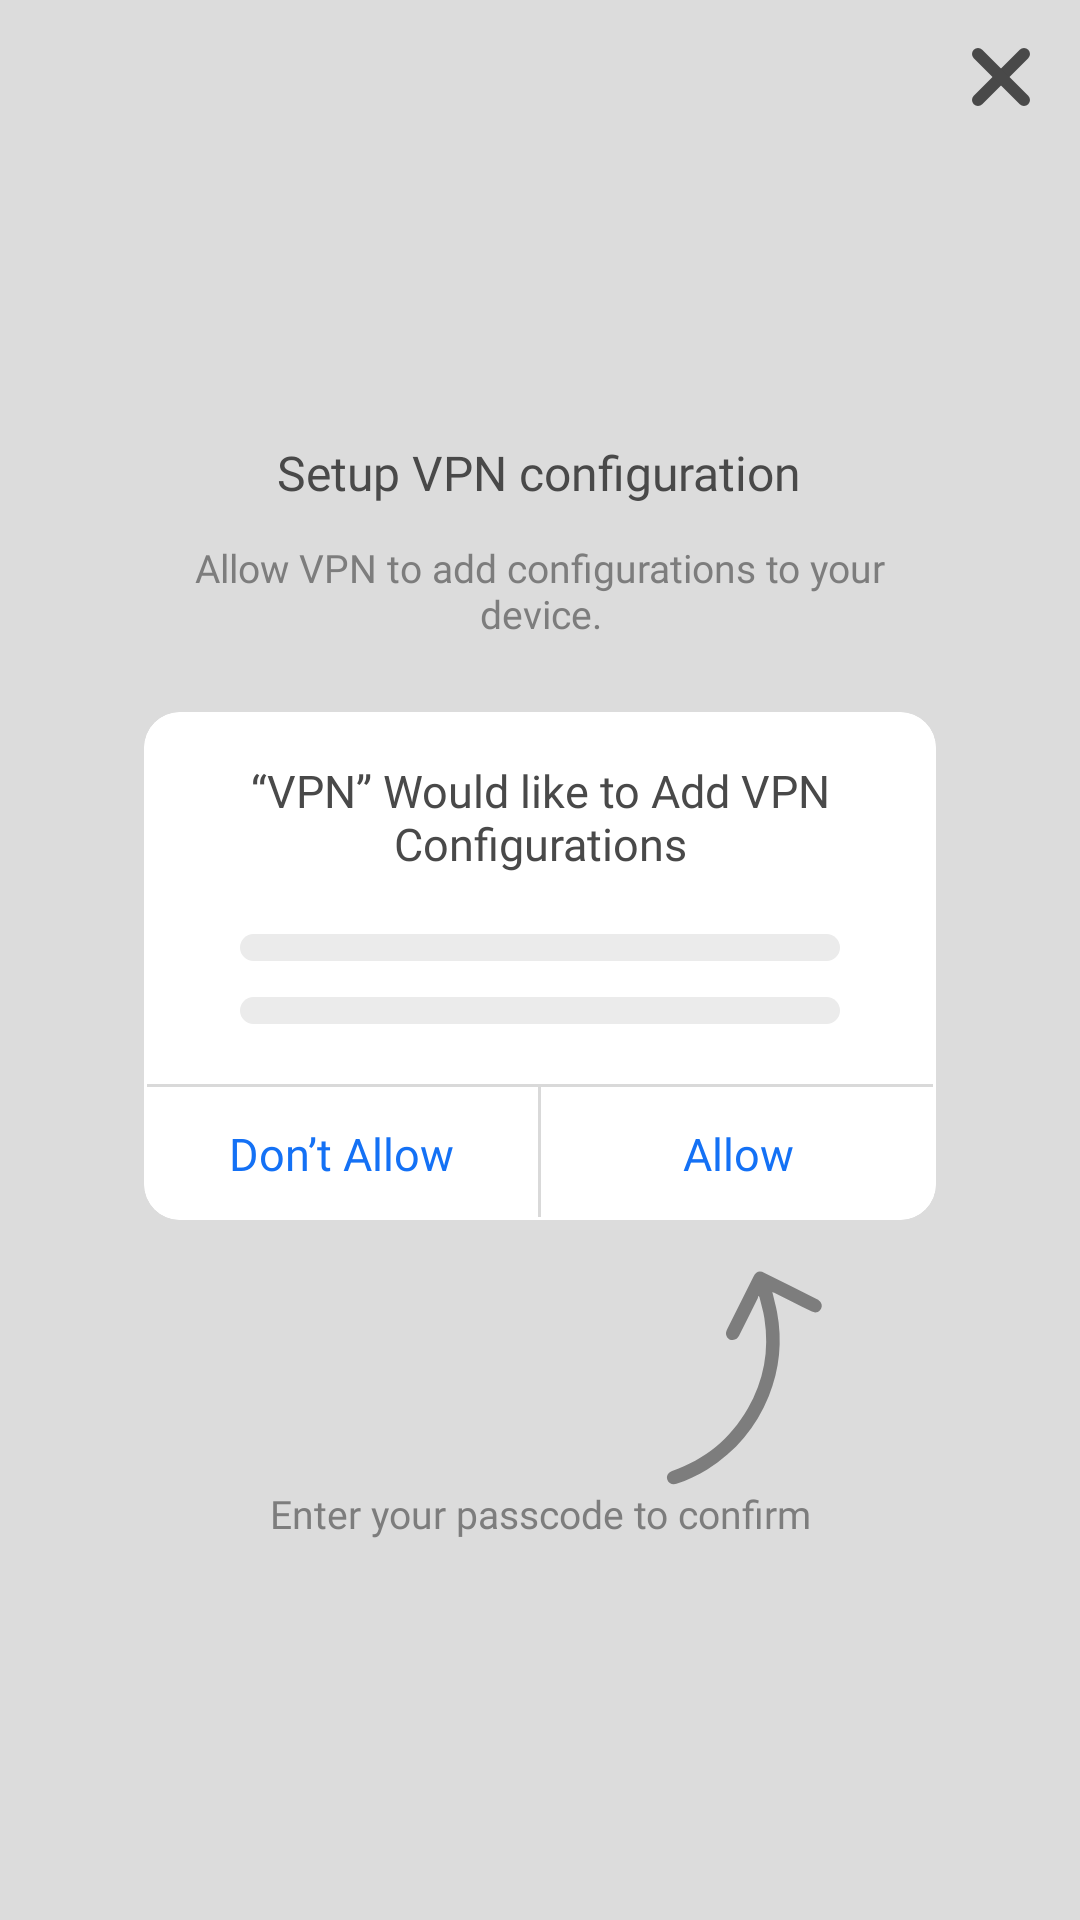

Named icons in this screenshot (1080x1920) and their bounding boxes, (x1, y1, x2, y2):
close: (972, 48, 1030, 106)
point arrow: (667, 1271, 822, 1484)
